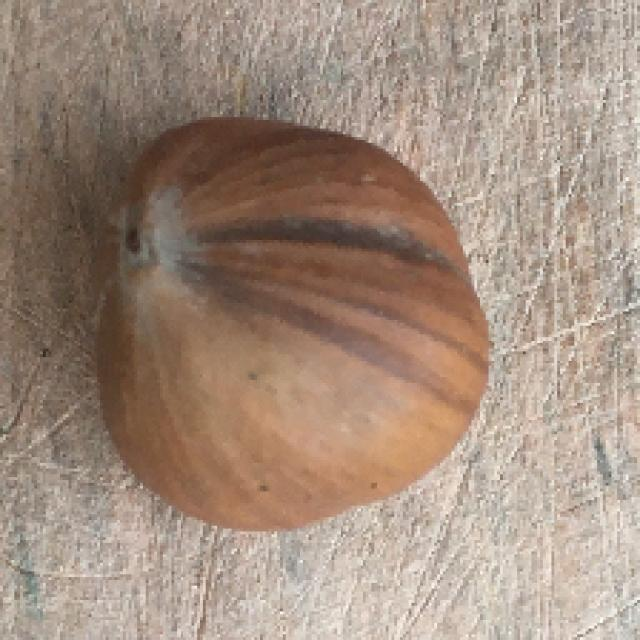DamagedHazelnut: (94, 120, 493, 534)
